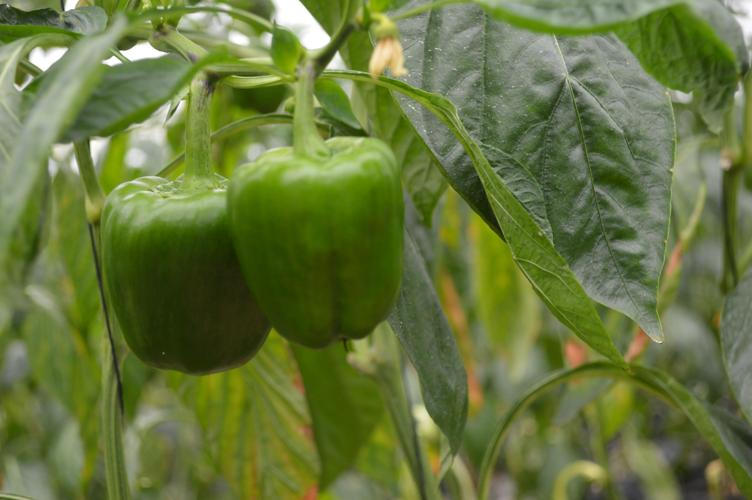BellPepper: (220, 141, 400, 338), (99, 174, 257, 374)
